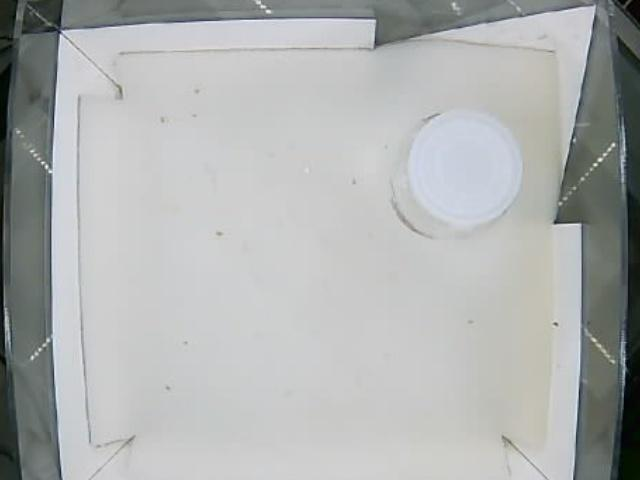Bottle: (386, 107, 524, 242)
